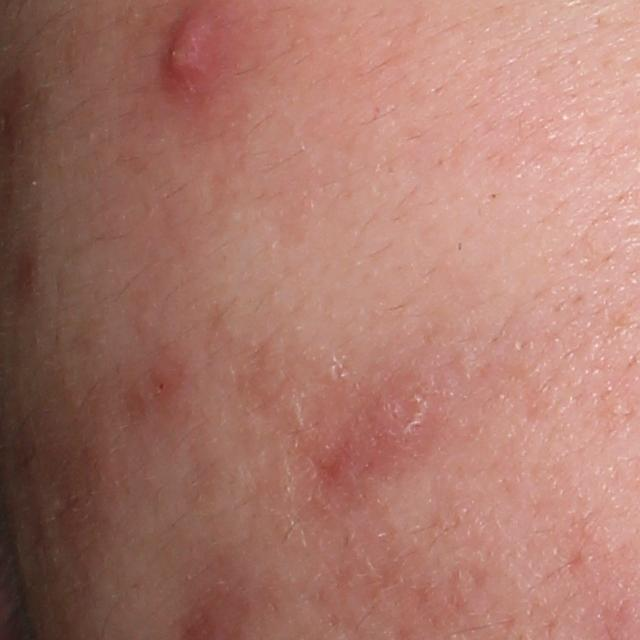papule: (158, 6, 218, 87)
